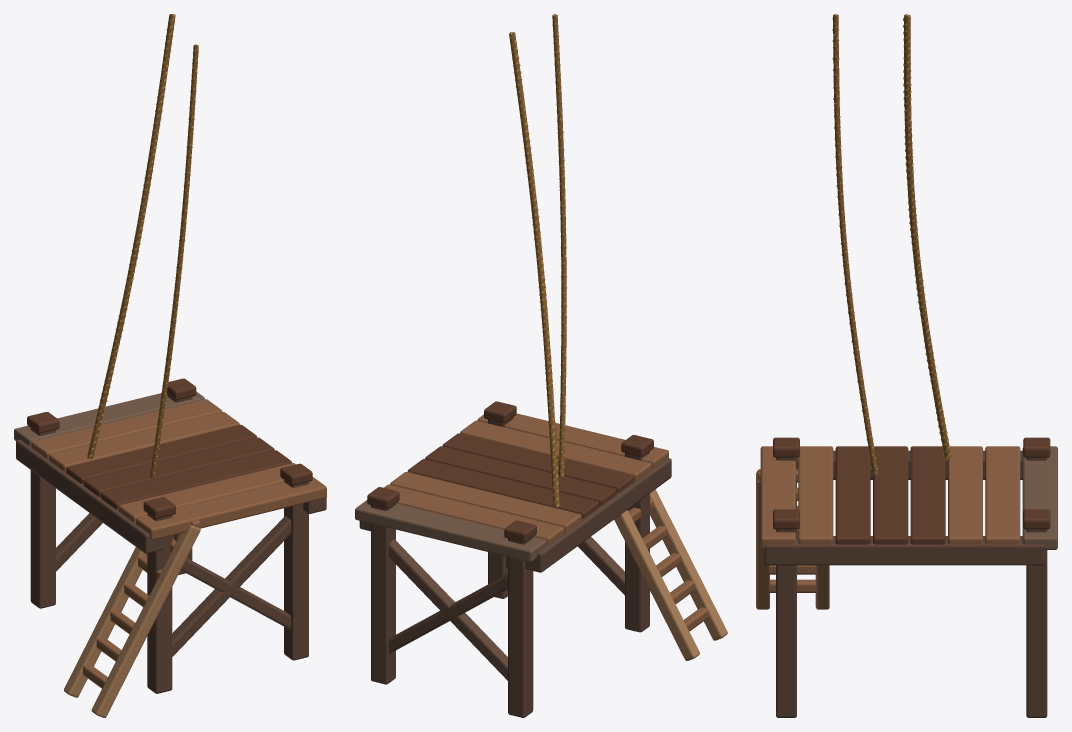
The model's file is SM_Menu_BackstageScaffold.fbx.
The picture shows the model from 3 angles, left to right: view 1: azimuth 30°, elevation 25°; view 2: azimuth 150°, elevation 25°; view 3: azimuth 270°, elevation 25°; orthographic projection. The views are drawn at different scales.
Visible parts, largest first — view 1: SM_Menu_BackstageScaffold; view 2: SM_Menu_BackstageScaffold; view 3: SM_Menu_BackstageScaffold.
Part boxes in pixels (x1,y1,x2,y2): SM_Menu_BackstageScaffold: [14, 14, 326, 717]; SM_Menu_BackstageScaffold: [355, 14, 727, 717]; SM_Menu_BackstageScaffold: [756, 14, 1057, 717].
Bounding box in the file's own units: 248 × 258 × 628.
